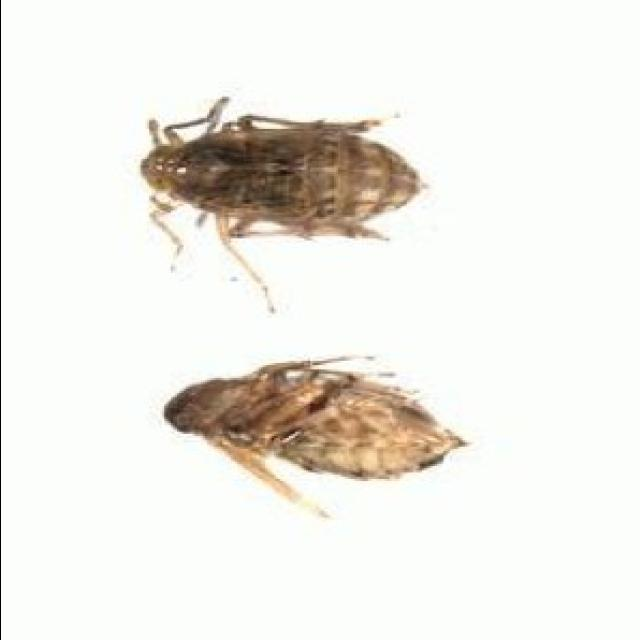brown plant hopper: (140, 94, 417, 311), (163, 359, 462, 518)
